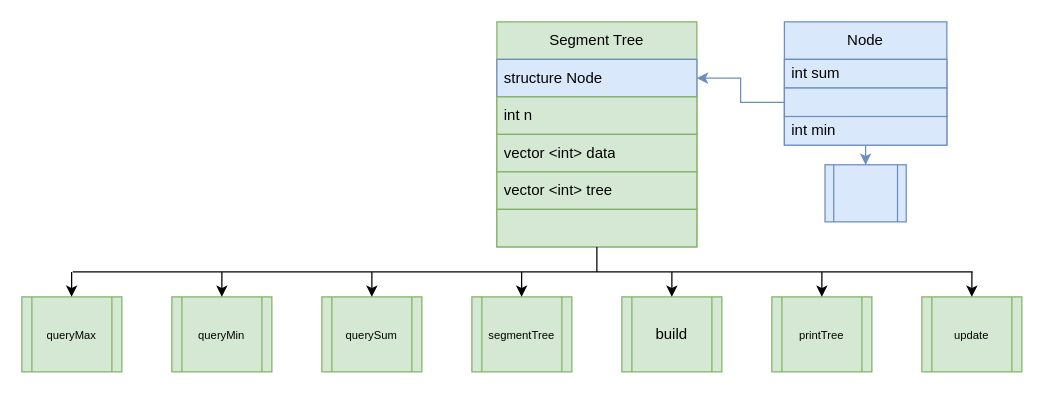
Image size: 1044x394. Some labels were removed from this diagram. Here are the shapes that lost their labels. From the top down, the centre of each, then its label:
At [865,102]: "int max".
At [865,193]: "combine()".
At [596,227]: "int tree_size".
